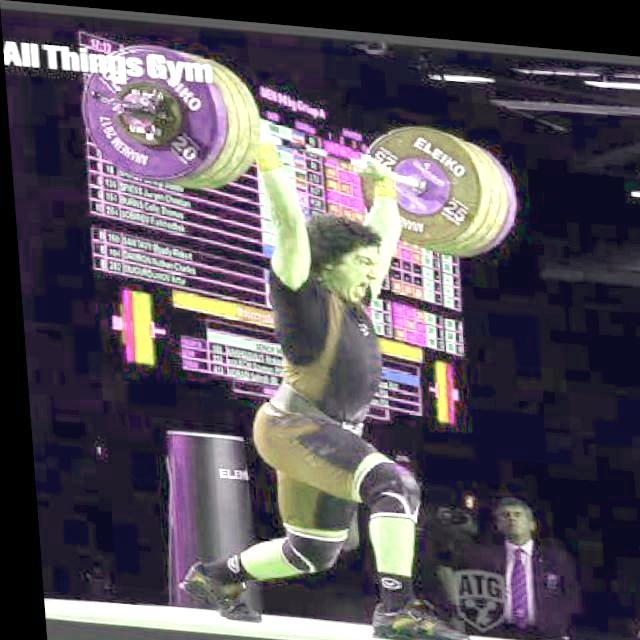barbell: (75, 34, 226, 185)
